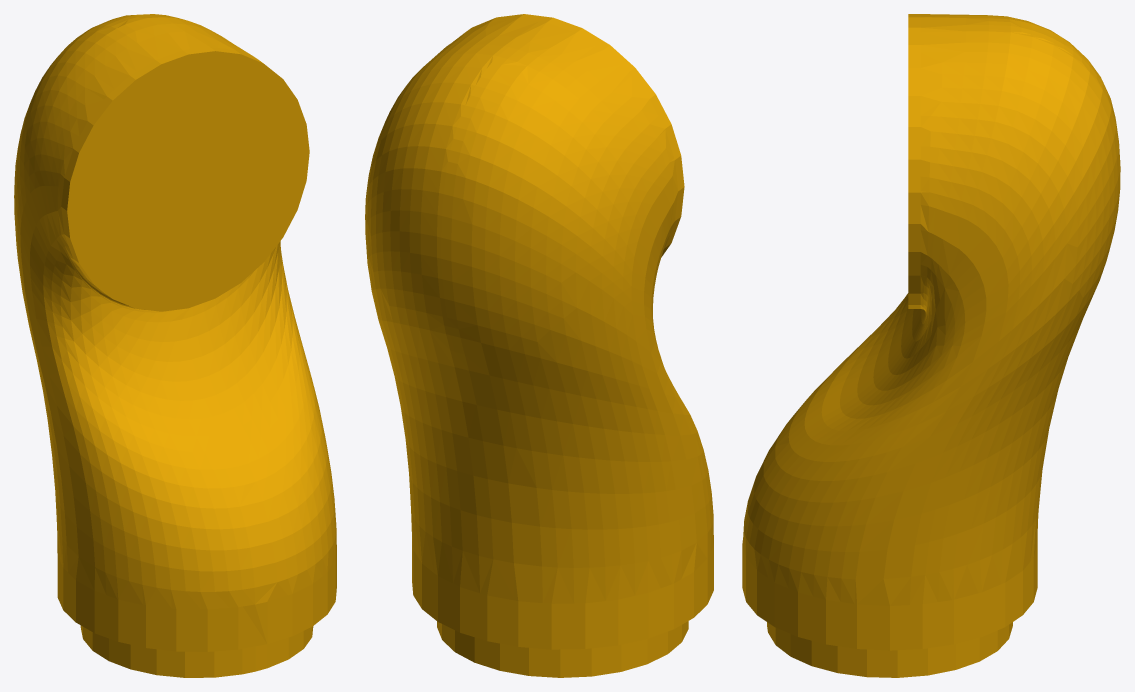
3 views of the same model, side by side, from view 1: azimuth 30°, elevation 25°; view 2: azimuth 150°, elevation 25°; view 3: azimuth 270°, elevation 25° (orthographic). The views are drawn at different scales.
Parts seen in each view (by area): view 1: link_3; view 2: link_3; view 3: link_3.
Part boxes in pixels (box(x1,y1,x2,y2)): link_3: box(14, 14, 336, 677); link_3: box(365, 14, 713, 677); link_3: box(742, 14, 1120, 677).
Bounding box in the file's own units: 0.12 × 0.1538 × 0.2685.
